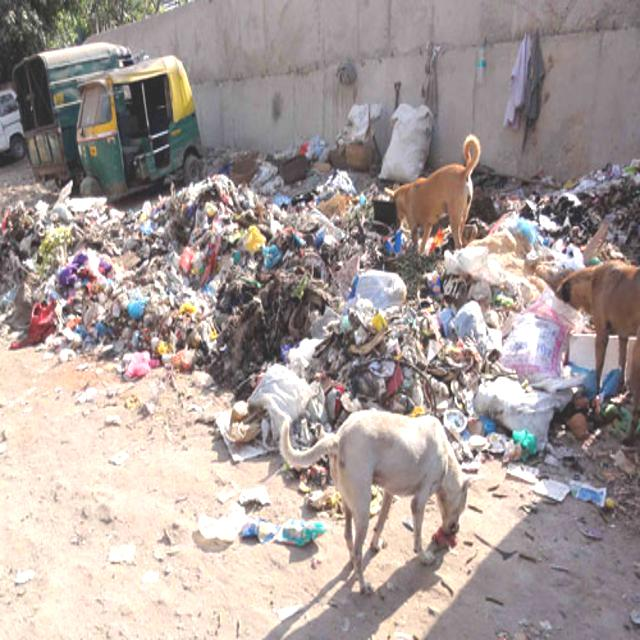garbage: (8, 172, 371, 410), (378, 256, 532, 411)
